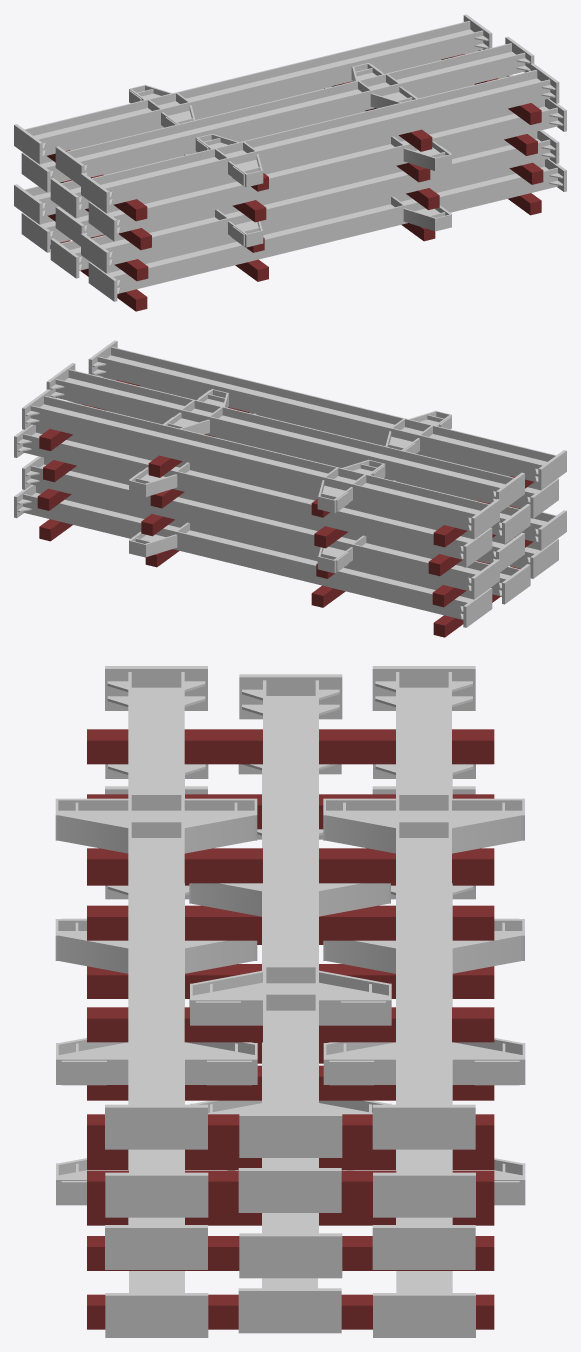
The model's file is SM_Column01Pack.fbx.
3 views of the same model, one above another, from view 1: azimuth 30°, elevation 25°; view 2: azimuth 150°, elevation 25°; view 3: azimuth 270°, elevation 25° (orthographic). The views are drawn at different scales.
Parts seen in each view (by area): view 1: Column01PackConstr, Column01PackBeams; view 2: Column01PackConstr, Column01PackBeams; view 3: Column01PackConstr, Column01PackBeams.
Boxes of the visible parts, left/top/right/bottom form: Column01PackConstr: left=14, top=14, right=566, bottom=301; Column01PackBeams: left=47, top=54, right=543, bottom=311; Column01PackConstr: left=14, top=340, right=566, bottom=627; Column01PackBeams: left=37, top=380, right=534, bottom=637; Column01PackConstr: left=55, top=666, right=525, bottom=1337; Column01PackBeams: left=87, top=729, right=494, bottom=1329.
Size of the model in its own units: 760 by 192 by 335.
